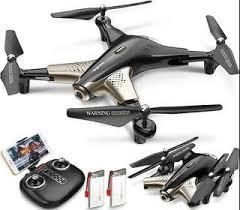drone: (0, 0, 240, 145)
